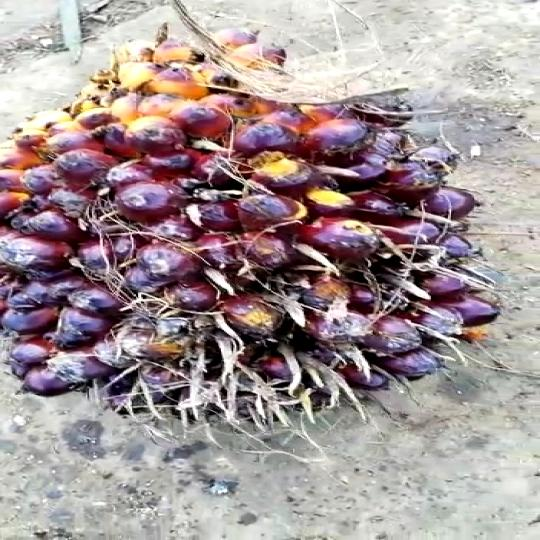kurang masak: (0, 47, 540, 436)
